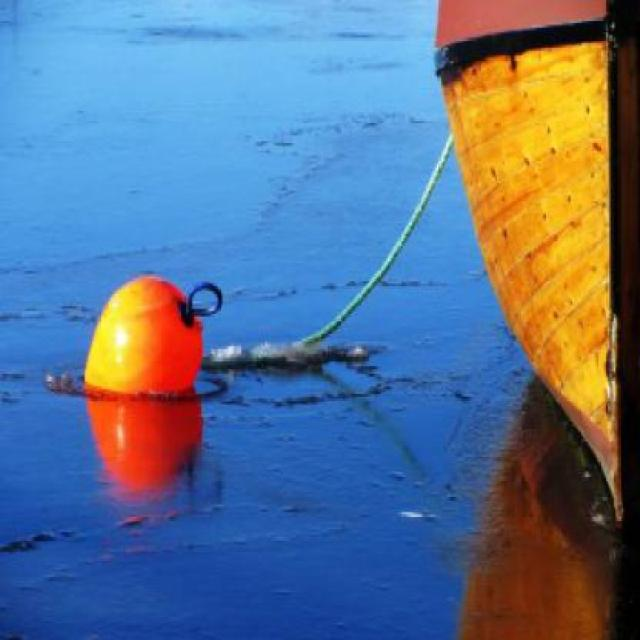a: (57, 265, 233, 409)
